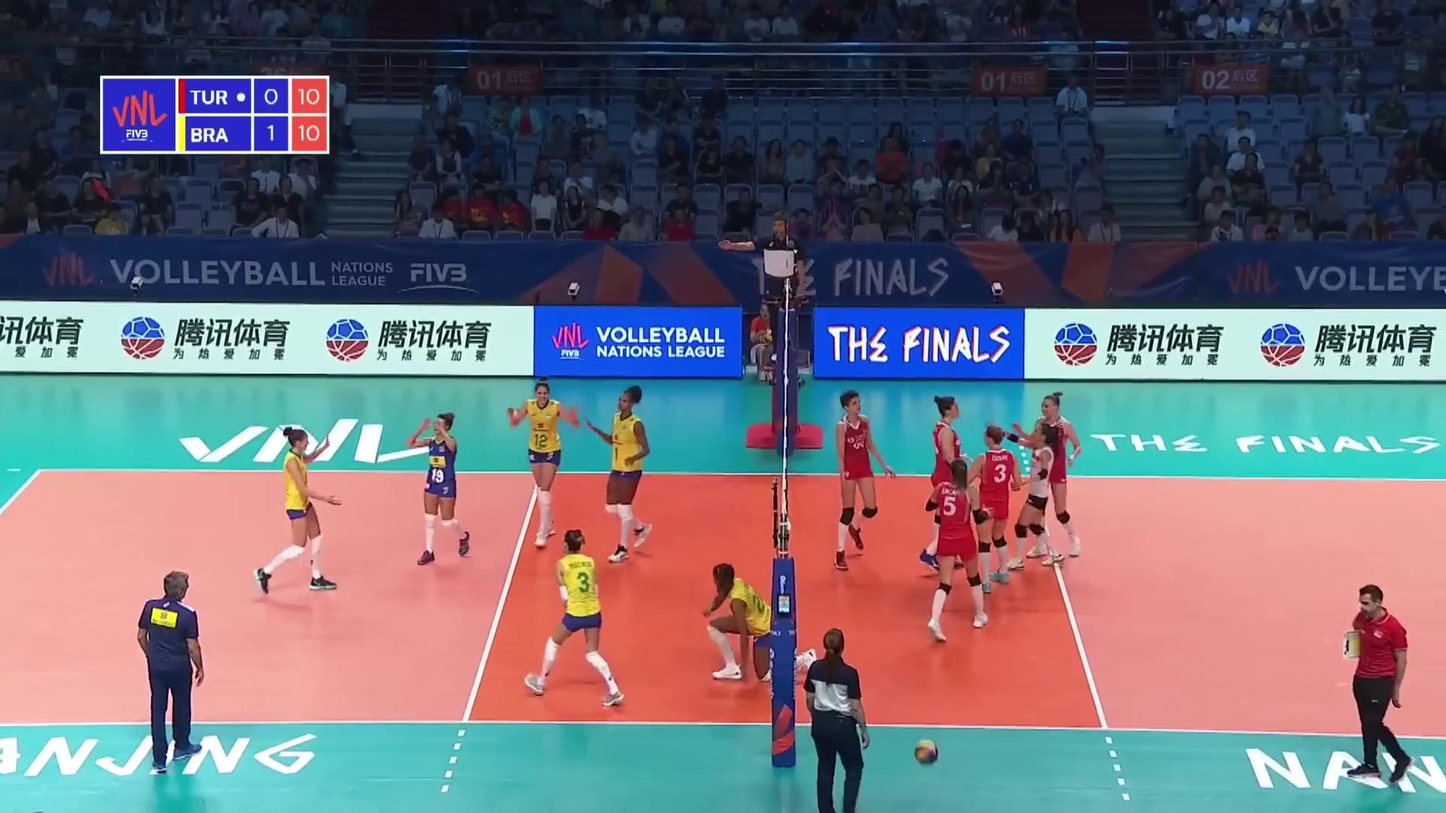player: (524, 529, 621, 703), (254, 424, 341, 595), (704, 563, 821, 682), (508, 379, 579, 548), (925, 458, 989, 640), (833, 393, 893, 571), (593, 381, 653, 558), (402, 412, 471, 564), (963, 422, 1023, 593), (1023, 393, 1081, 562), (1005, 421, 1063, 569), (918, 396, 965, 569)
refree: (806, 630, 866, 812), (734, 215, 804, 360)
